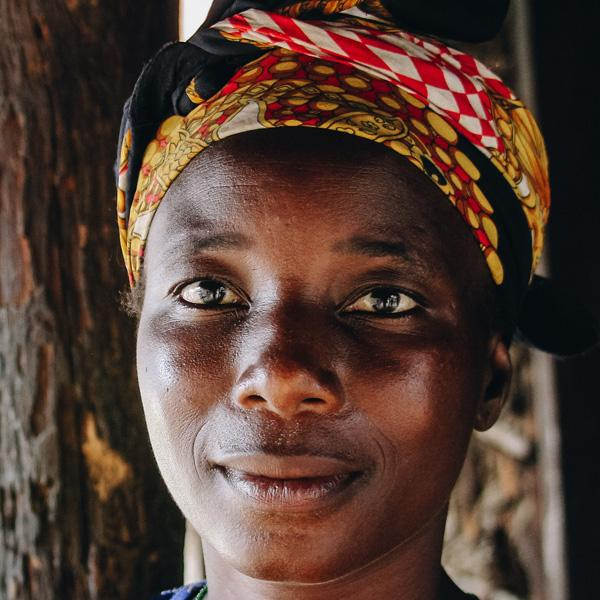Eyes: (331, 271, 436, 335), (161, 261, 255, 324)
